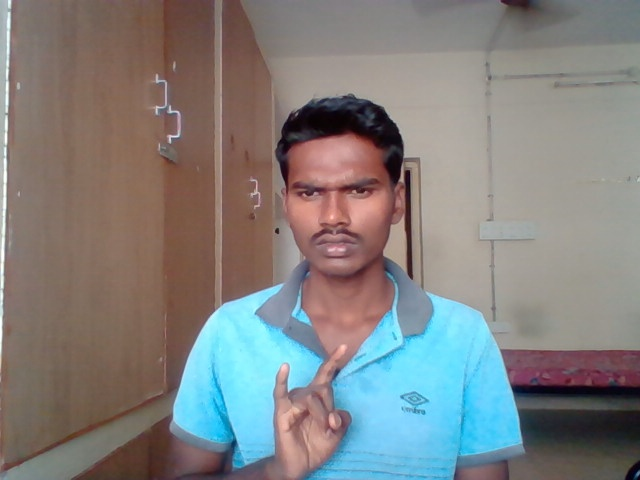I Love You: (272, 340, 357, 480)
